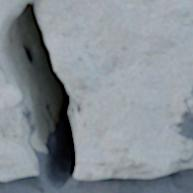brick: (0, 0, 192, 180), (0, 48, 38, 180)
crack: (0, 1, 76, 191)
